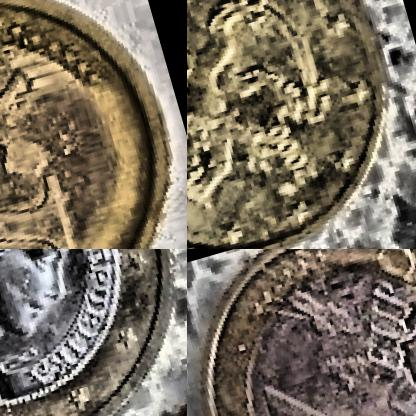coin: (187, 0, 415, 248), (0, 0, 186, 248), (187, 249, 415, 415), (0, 249, 186, 415)
